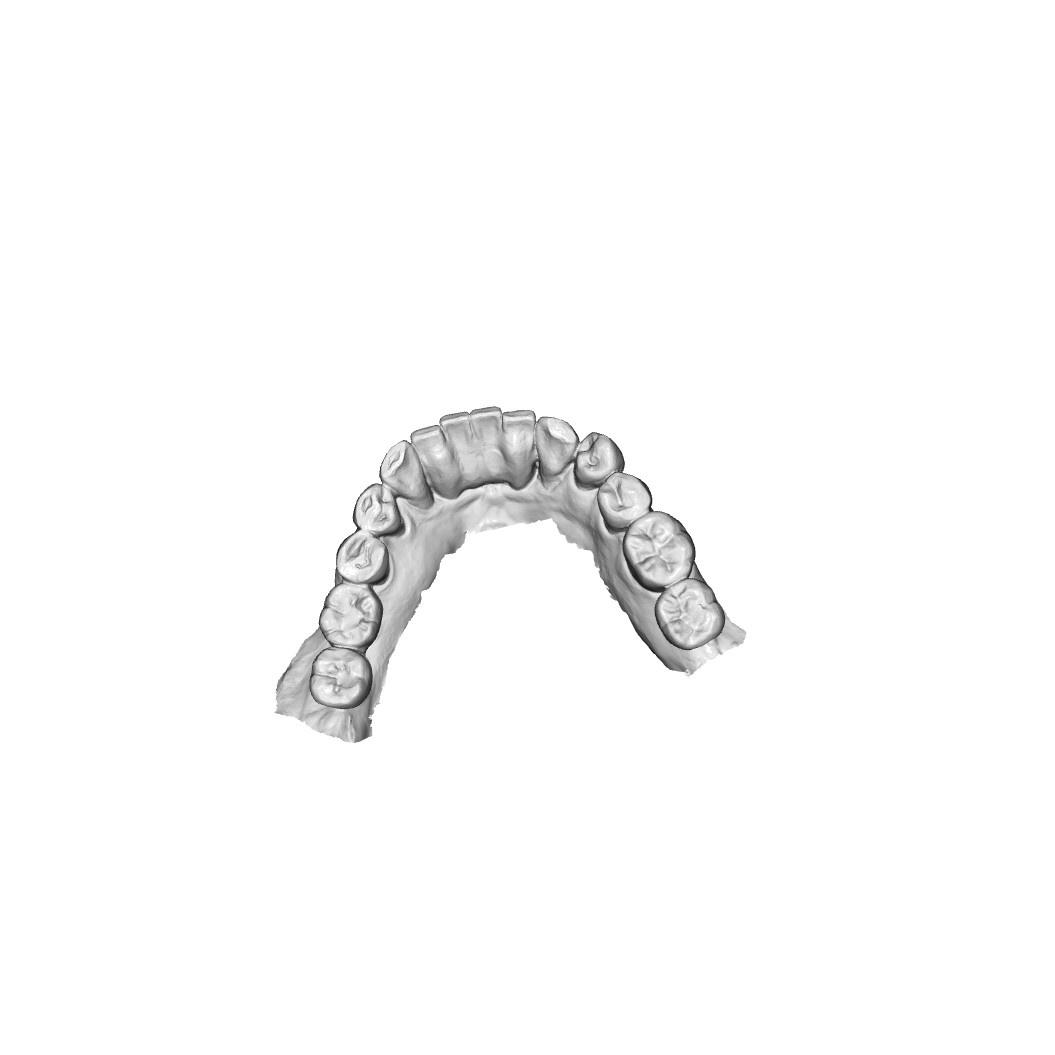canine: (532, 412, 582, 477), (376, 439, 428, 499)
incisor: (436, 407, 475, 475), (500, 402, 542, 465), (407, 420, 448, 481), (465, 403, 507, 456)
molar: (619, 508, 697, 592), (652, 577, 727, 651), (318, 579, 384, 649), (308, 644, 374, 711)
premolar: (596, 470, 654, 535), (569, 427, 626, 488), (332, 529, 389, 586), (351, 482, 405, 540)
